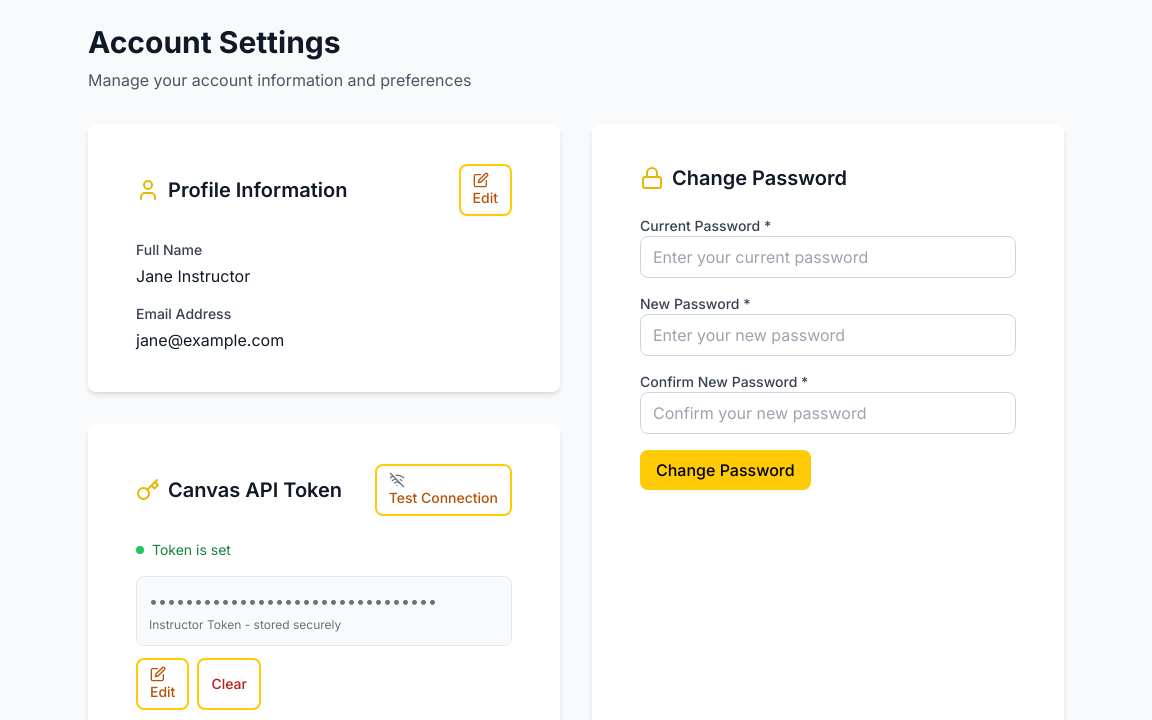
Canvas API token section - token already set › Test Connection reports a successful connection
Step 1. Click the button "Test Connection" → click(443, 490), box [375,464,512,516]
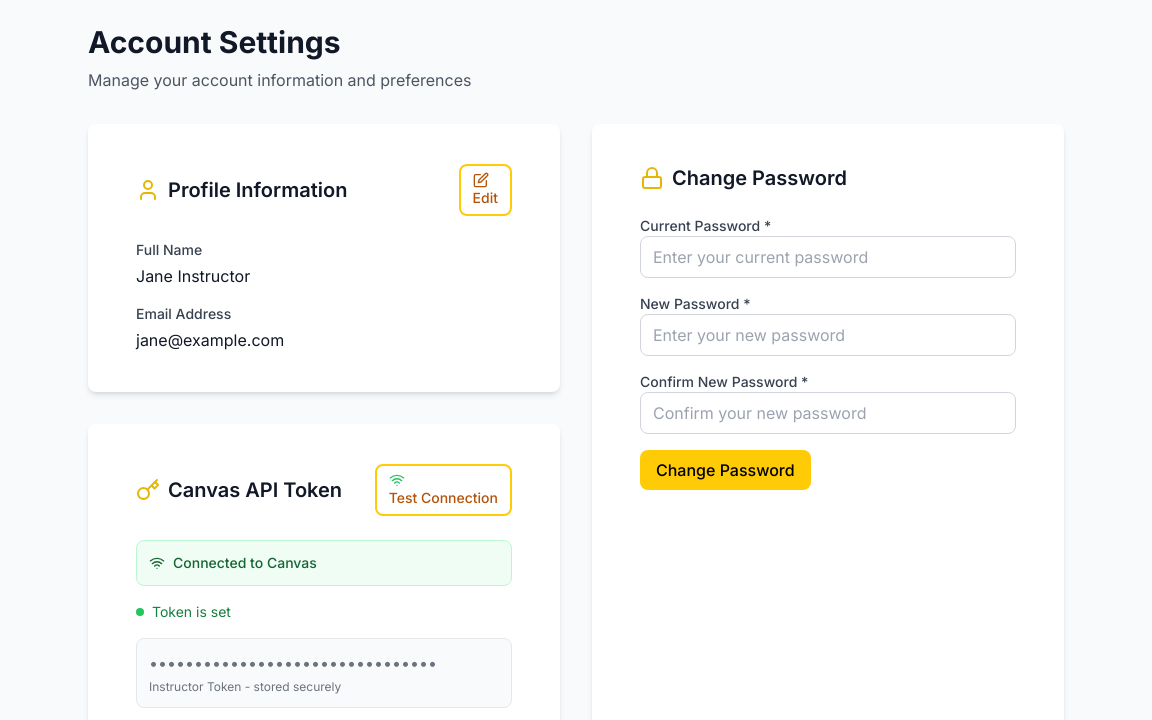
Check: the text "Connected to Canvas" is shown, box [173,553,317,573]
